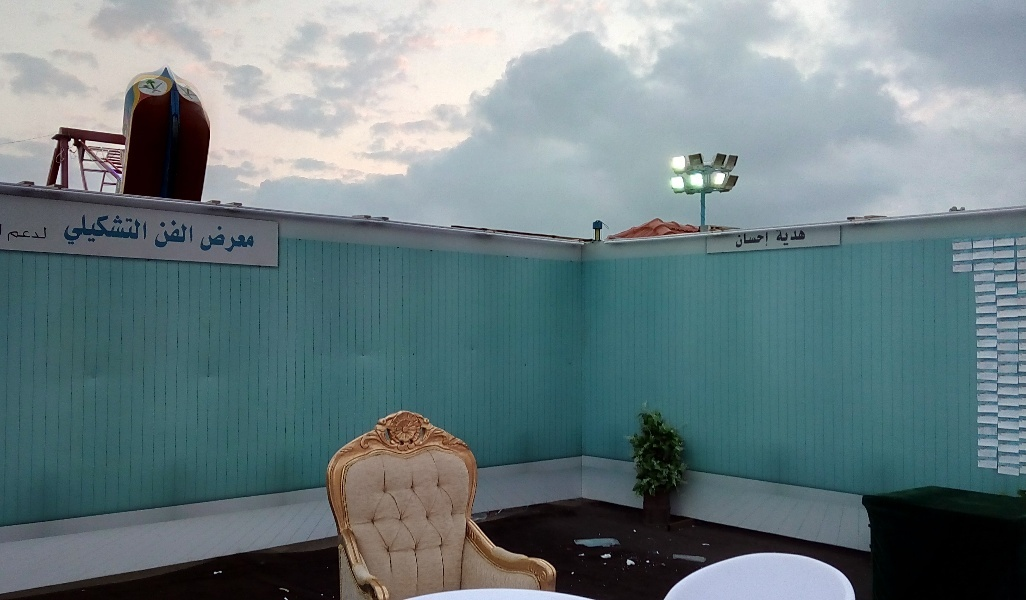text: (81, 210, 96, 247), (97, 210, 112, 247), (113, 210, 128, 247), (129, 210, 144, 247), (67, 210, 80, 247), (209, 223, 224, 253), (225, 223, 240, 253), (161, 219, 176, 249), (177, 219, 192, 249), (241, 223, 255, 253), (785, 228, 800, 247), (737, 231, 752, 249), (753, 231, 768, 249), (17, 226, 32, 242), (33, 226, 47, 242), (202, 223, 208, 253), (775, 228, 784, 247), (7, 226, 16, 242), (145, 210, 148, 247), (801, 228, 806, 247), (193, 219, 194, 249), (735, 231, 736, 249)
